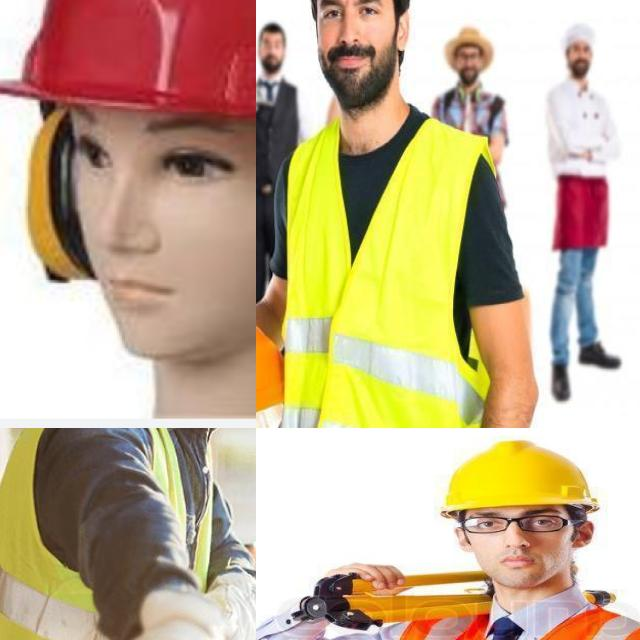Ear-protection: (0, 0, 256, 384)
No_Glasses: (49, 122, 256, 192), (314, 0, 387, 30)
face_nomask: (454, 513, 594, 588), (306, 0, 391, 93), (454, 45, 485, 89), (258, 41, 285, 74), (570, 45, 592, 84)
glasses: (454, 510, 579, 538)
hand_glove: (124, 591, 243, 640)
hand_noglove: (325, 558, 409, 594)
head_helmet: (440, 443, 599, 505), (256, 310, 293, 428)
head_nohelmet: (256, 21, 292, 44)
person: (256, 0, 503, 428), (318, 429, 640, 640), (0, 428, 256, 640), (535, 18, 618, 400), (430, 12, 528, 256), (256, 0, 304, 326)
vest: (272, 110, 505, 428), (0, 428, 256, 640)
